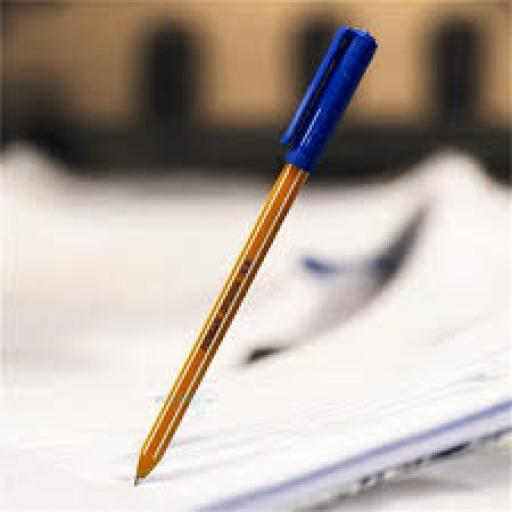tukenmez-kalem: (129, 21, 401, 483)
